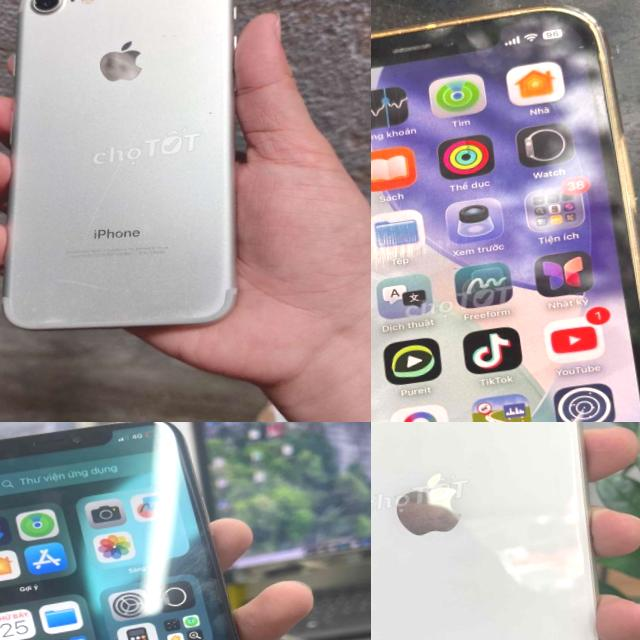gen_11: (371, 422, 602, 640)
gen_12_13: (371, 0, 640, 422)
gen_7_8: (0, 0, 282, 349)
gen_x_xs: (0, 422, 296, 640)
